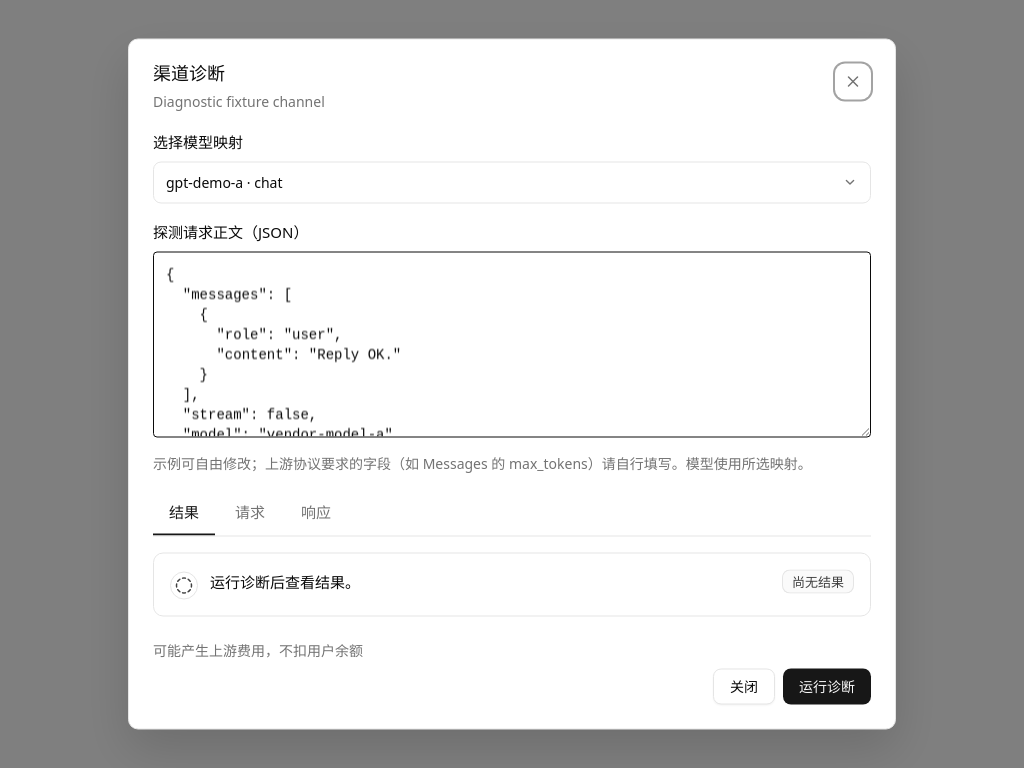
it: ChannelDiagnostics › does not infer an upstream status from an unclassified API error
Click the button "运行诊断" at (827, 686), box [783,668,871,704]
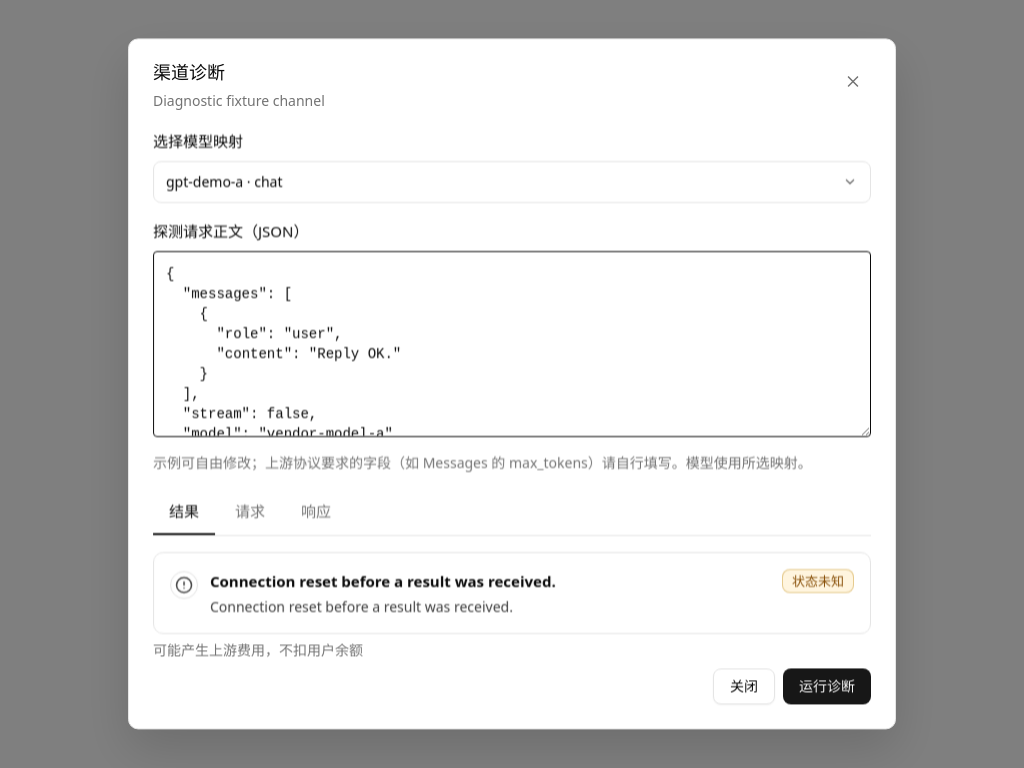
Now the text "状态未知" is shown, box [782,569,854,593]
Click the tab "响应" at (316, 512), box [285,489,347,535]
(page scrolled)
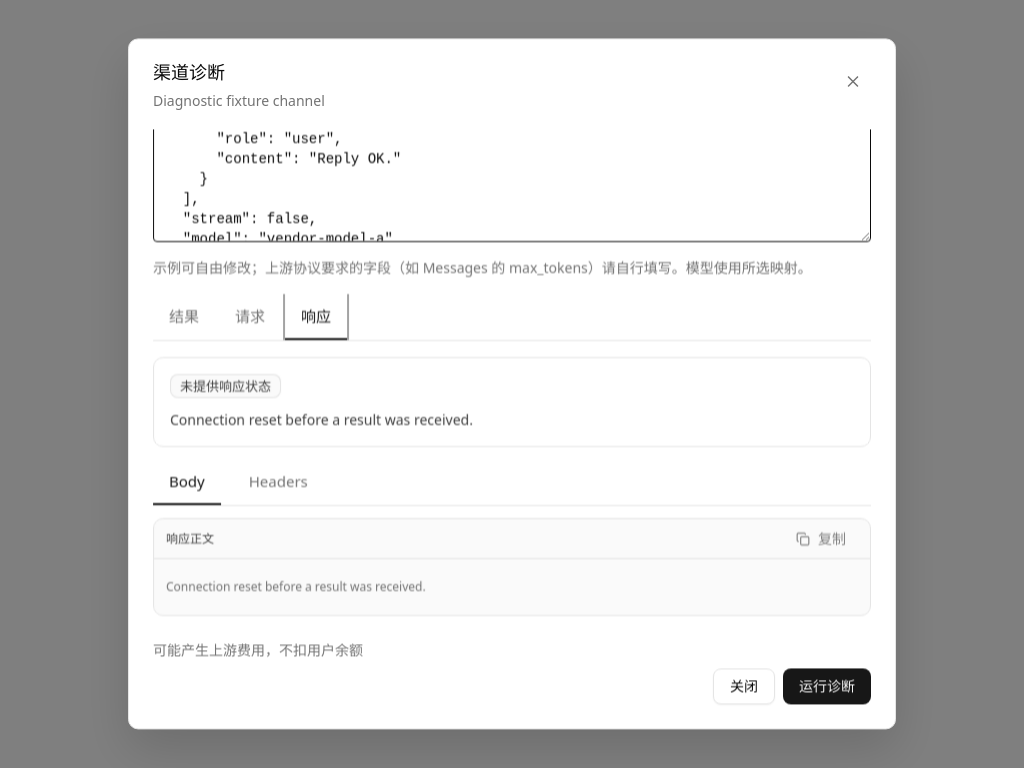
Now the element named "上游响应" shows "未提供响应状态", box [180,377,271,395]
Now the element named "上游响应" shows "Connection reset before a result was received.", box [170,410,473,429]
